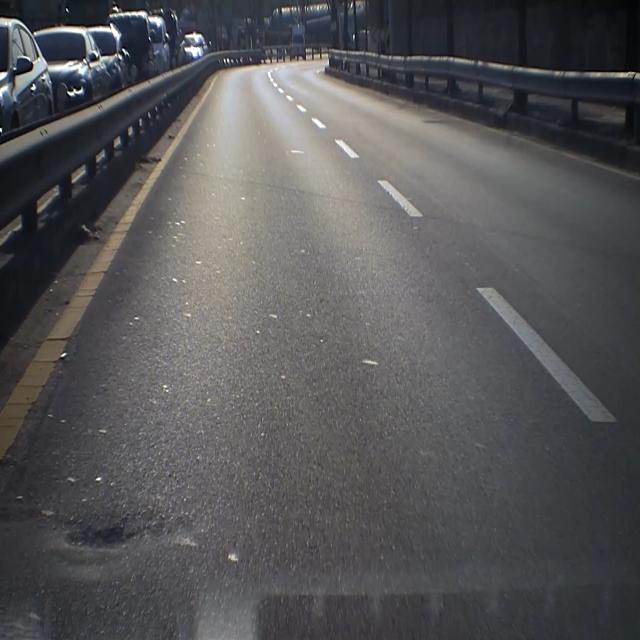Pothole: (53, 504, 165, 567)
